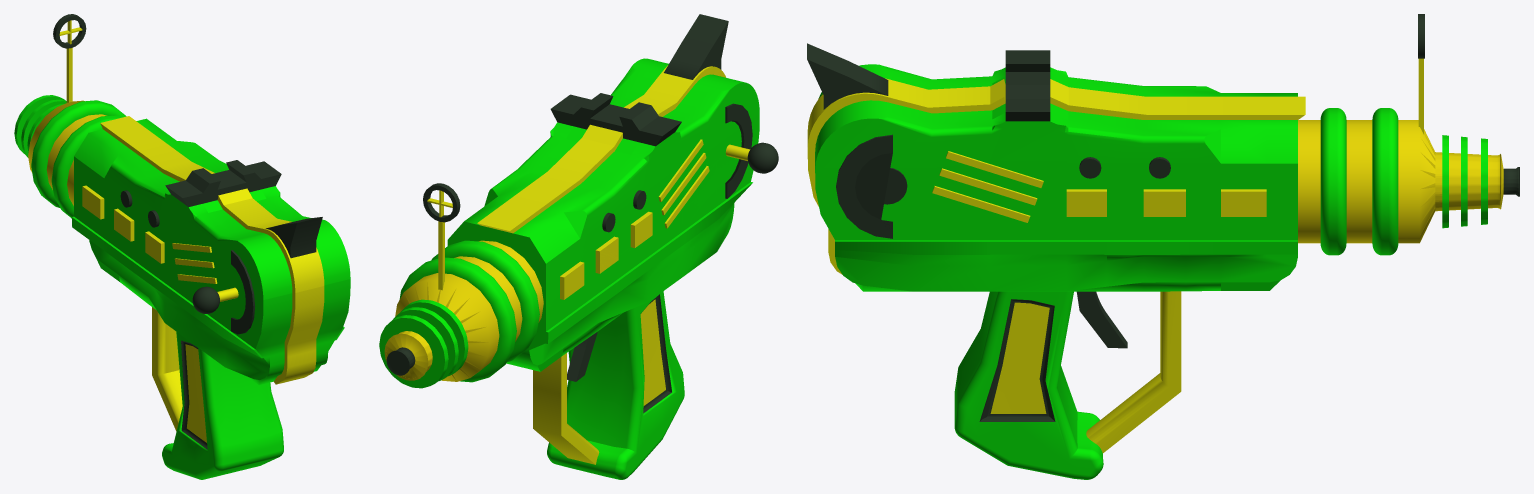
File: Space gun.fbx
3 renders of one model, left to right at view 1: azimuth 30°, elevation 25°; view 2: azimuth 150°, elevation 25°; view 3: azimuth 270°, elevation 25°, orthographic. The views are drawn at different scales.
Parts seen in each view (by area): view 1: polySurface41; view 2: polySurface41; view 3: polySurface41.
Boxes of the visible parts, x1,y1,x2,y2 form: polySurface41: [14, 14, 350, 479]; polySurface41: [379, 14, 778, 479]; polySurface41: [807, 14, 1519, 479].
Size of the model in its own units: 2.43 by 5.94 by 8.61.
